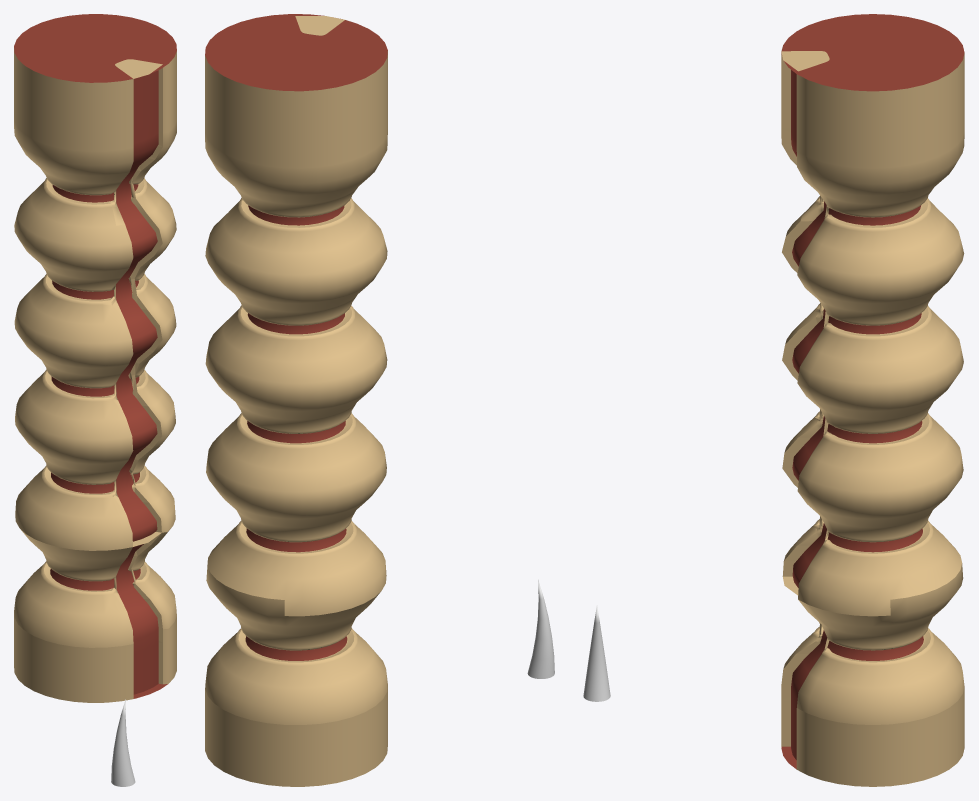
Rendered from model gut.fbx.
3 views of the same model, side by side, from view 1: azimuth 30°, elevation 25°; view 2: azimuth 150°, elevation 25°; view 3: azimuth 270°, elevation 25° (orthographic). The views are drawn at different scales.
Visible parts, largest first — view 1: Hose001, Hose002, Cone001; view 2: Hose001, Hose002, Cone001; view 3: Hose001, Hose002, Cone001.
Part boxes in pixels (x1,y1,x2,y2): Hose001: [14, 48, 176, 702]; Hose002: [14, 14, 176, 698]; Cone001: [111, 699, 135, 786]; Hose001: [205, 16, 387, 786]; Hose002: [205, 14, 387, 660]; Cone001: [527, 579, 554, 678]; Hose001: [781, 47, 964, 786]; Hose002: [781, 14, 964, 769]; Cone001: [583, 605, 610, 701].
Size of the model in its own units: 68.38 by 230 by 114.
